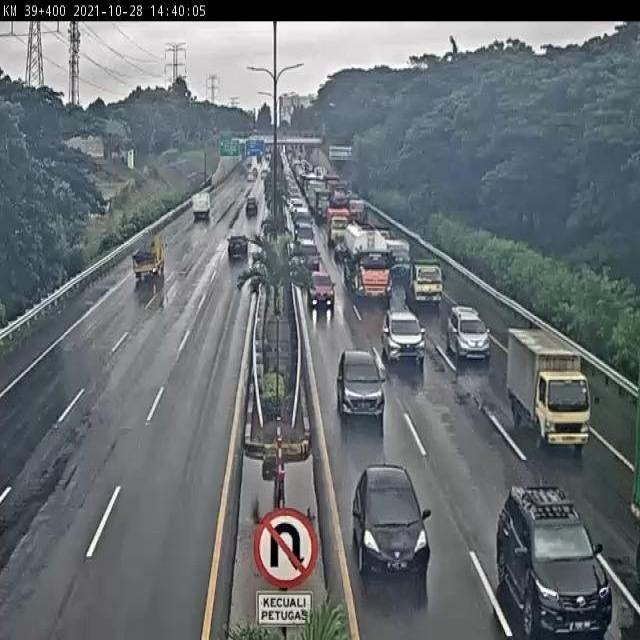big truck: (344, 223, 390, 297)
car: (495, 483, 613, 636), (351, 464, 431, 572), (335, 345, 383, 412), (380, 304, 427, 363), (447, 302, 490, 354), (307, 269, 333, 307), (226, 233, 252, 259)
mid truck: (242, 198, 259, 218)
small truck: (506, 324, 594, 451), (130, 234, 169, 278), (407, 257, 443, 304), (386, 232, 411, 273)
